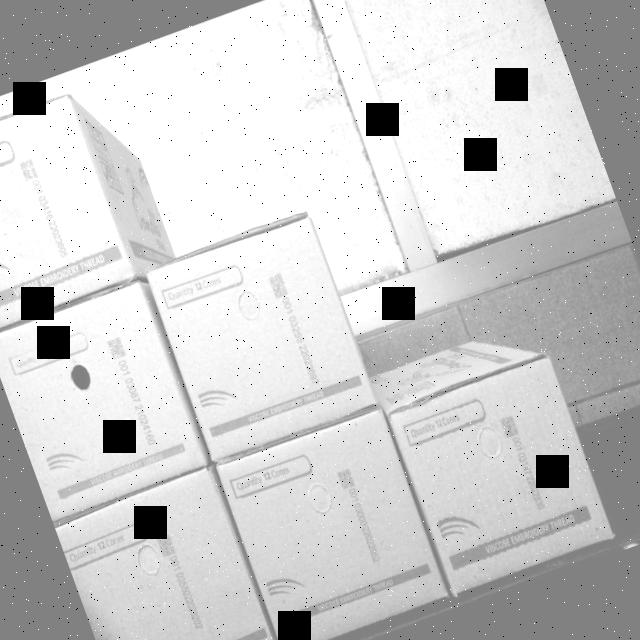box: (144, 212, 374, 462), (216, 407, 450, 640), (389, 352, 612, 590), (0, 278, 209, 522), (54, 466, 282, 640), (0, 92, 132, 329)
